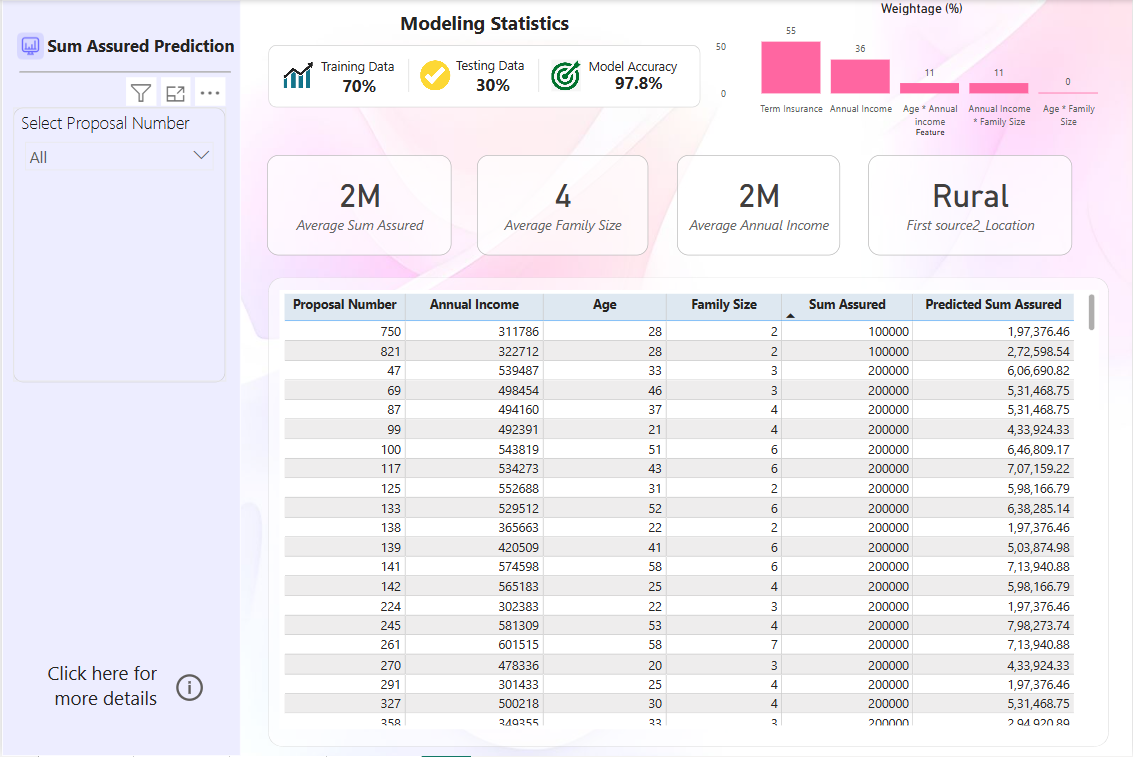

What the dashboard file says about the page in this screenshot:
{"tool":"powerbi","page":{"name":"Page 2","canvas":[1280,720],"ordinal":0},"visuals":[{"type":"shape","box":[30,36.2,551.2,80],"z":0},{"type":"image","box":[50.6,53.7,46.9,45.4],"z":1000},{"type":"textbox","box":[97.5,46.8,119.2,40],"z":2000},{"type":"textbox","box":[126,66.8,66.2,43.1],"z":3000},{"type":"textbox","box":[270,44.5,119.3,40],"z":4000},{"type":"textbox","box":[296.7,65.2,66,42.7],"z":5000},{"type":"textbox","box":[439,46.3,134,40],"z":6000},{"type":"textbox","box":[473.6,64.9,66,43.3],"z":7000},{"type":"image","box":[391.7,53.2,47.3,45.5],"z":8000},{"type":"image","box":[223.5,53.2,48.3,45.8],"z":9000},{"type":"textbox","box":[186.2,0,250,51.2],"z":10000},{"type":"shape","box":[62.5,131.2,431.2,228.8],"z":11000},{"type":"textbox","box":[163.7,131,246.2,70],"z":12000},{"type":"textbox","box":[90,192.2,306.2,180],"z":13000},{"type":"textbox","box":[352.5,192.2,130,172.5],"z":14000},{"type":"donutChart","title":"Predicted Risk Distribution","fields":{"Category":["Query1.Risk Status"],"Y":["CountNonNull(Query1.Risk Status)"]},"box":[581.2,21.2,462.5,325],"z":15000},{"type":"card","fields":{"Values":["Count(Query1.APP_NO)"]},"box":[1062.5,246.2,191.2,91.2],"z":16000},{"type":"tableEx","fields":{"Values":["Query1.APP_NO","Query1.Risk Status","Query1.Predicted Score","Query1.Credit_Score","Query1.DTI","Query1.Number_Of_Active_Loans","Query1.Number_Of_Previous_Applications","Query1.NetSalary","Query1.LOAN_AMTREQD","Query1.LOAN_DEFINEDTENOR"]},"box":[511.2,360,755,336.2],"z":17000},{"type":"slicer","title":"Risk Status","fields":{"Values":["Query1.Risk Status"]},"box":[1071.2,21.2,182.5,175],"z":18000},{"type":"textbox","box":[78.8,365,392.5,67.5],"z":19000},{"type":"card","fields":{"Values":["Avg(Query1.NetSalary)"]},"box":[62.5,413.8,201.2,81.2],"z":20000},{"type":"card","fields":{"Values":["Avg(Query1.Credit_Score)"]},"box":[292.5,412.5,193.8,81.2],"z":21000},{"type":"card","fields":{"Values":["Avg(Query1.Employer_ratings)"]},"box":[62.5,511.2,201.2,83.8],"z":22000},{"type":"card","fields":{"Values":["Avg(Query1.LOAN_AMTREQD)"]},"box":[290,511.2,196.2,83.8],"z":23000},{"type":"card","fields":{"Values":["Avg(Query1.TOTAL_YRSEXP)"]},"box":[62.5,612.5,201.2,83.8],"z":24000},{"type":"card","fields":{"Values":["Avg(Query1.Number_Of_Active_Loans)"]},"box":[290,612.5,197.5,83.8],"z":25000},{"type":"shape","box":[186.2,53.8,58.8,42.5],"z":26000},{"type":"shape","box":[351.2,53.8,58.8,42.5],"z":27000}]}

Visuals, with their boxes on the page's 1280x720 design canvas (x1, y1, x2, y2). These are canvas units, not pixel positions in the 1133x757 screenshot, which may show the page scaled, cropped or inside an application window:
shape: {"x1": 30, "y1": 36, "x2": 581, "y2": 116}
image: {"x1": 51, "y1": 54, "x2": 98, "y2": 99}
textbox: {"x1": 98, "y1": 47, "x2": 217, "y2": 87}
textbox: {"x1": 126, "y1": 67, "x2": 192, "y2": 110}
textbox: {"x1": 270, "y1": 44, "x2": 389, "y2": 84}
textbox: {"x1": 297, "y1": 65, "x2": 363, "y2": 108}
textbox: {"x1": 439, "y1": 46, "x2": 573, "y2": 86}
textbox: {"x1": 474, "y1": 65, "x2": 540, "y2": 108}
image: {"x1": 392, "y1": 53, "x2": 439, "y2": 99}
image: {"x1": 224, "y1": 53, "x2": 272, "y2": 99}
textbox: {"x1": 186, "y1": 0, "x2": 436, "y2": 51}
shape: {"x1": 62, "y1": 131, "x2": 494, "y2": 360}
textbox: {"x1": 164, "y1": 131, "x2": 410, "y2": 201}
textbox: {"x1": 90, "y1": 192, "x2": 396, "y2": 372}
textbox: {"x1": 352, "y1": 192, "x2": 482, "y2": 365}
"Predicted Risk Distribution" donutChart: {"x1": 581, "y1": 21, "x2": 1044, "y2": 346}
card - Count(Query1.APP_NO): {"x1": 1062, "y1": 246, "x2": 1254, "y2": 337}
tableEx - Query1.APP_NO x Query1.Risk Status: {"x1": 511, "y1": 360, "x2": 1266, "y2": 696}
"Risk Status" slicer: {"x1": 1071, "y1": 21, "x2": 1254, "y2": 196}
textbox: {"x1": 79, "y1": 365, "x2": 471, "y2": 432}
card - Avg(Query1.NetSalary): {"x1": 62, "y1": 414, "x2": 264, "y2": 495}
card - Avg(Query1.Credit_Score): {"x1": 292, "y1": 412, "x2": 486, "y2": 494}
card - Avg(Query1.Employer_ratings): {"x1": 62, "y1": 511, "x2": 264, "y2": 595}
card - Avg(Query1.LOAN_AMTREQD): {"x1": 290, "y1": 511, "x2": 486, "y2": 595}
card - Avg(Query1.TOTAL_YRSEXP): {"x1": 62, "y1": 612, "x2": 264, "y2": 696}
card - Avg(Query1.Number_Of_Active_Loans): {"x1": 290, "y1": 612, "x2": 488, "y2": 696}
shape: {"x1": 186, "y1": 54, "x2": 245, "y2": 96}
shape: {"x1": 351, "y1": 54, "x2": 410, "y2": 96}
